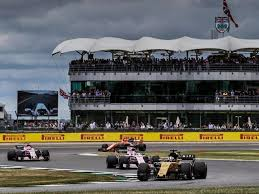FormulaOneCar: (136, 148, 213, 184), (105, 148, 153, 171), (6, 142, 55, 164), (96, 135, 149, 155)
